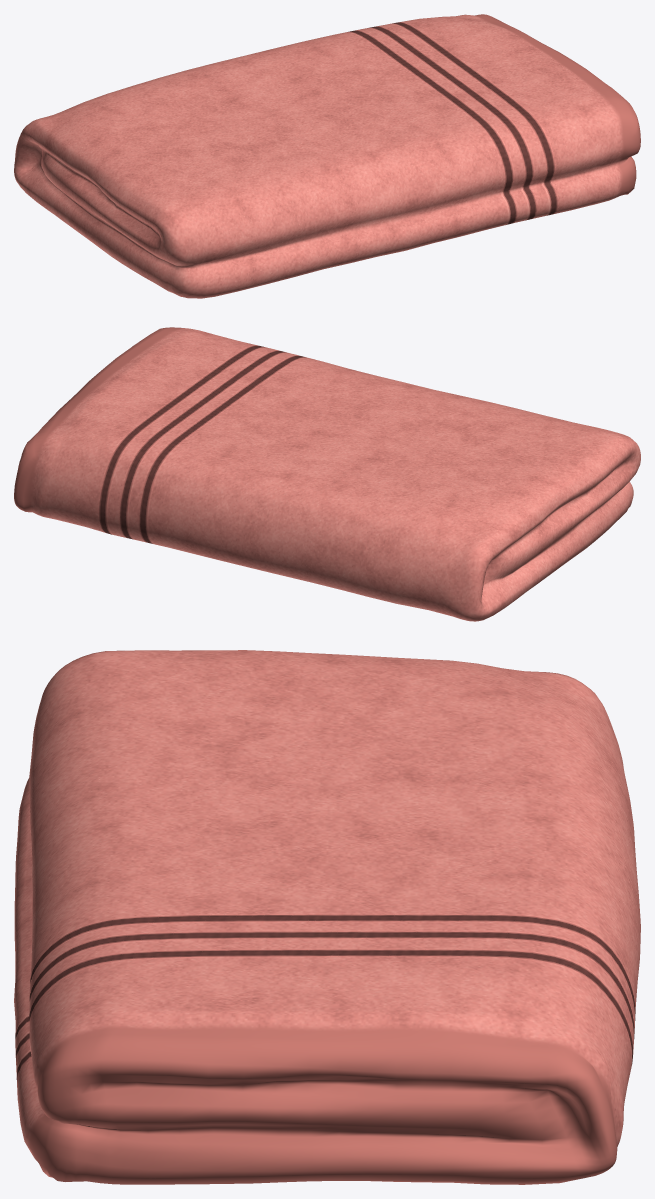
Rendered from towel_exit.glb.
3 views of the same model, one above another, from view 1: azimuth 30°, elevation 25°; view 2: azimuth 150°, elevation 25°; view 3: azimuth 270°, elevation 25° (orthographic). The views are drawn at different scales.
Parts seen in each view (by area): view 1: SM_Towel_1_0; view 2: SM_Towel_1_0; view 3: SM_Towel_1_0.
Part boxes in pixels (box(x1,y1,x2,y2)): SM_Towel_1_0: box(14, 14, 640, 298); SM_Towel_1_0: box(14, 327, 640, 621); SM_Towel_1_0: box(14, 650, 640, 1184).
Bounding box in the file's own units: 0.2005 × 0.0358 × 0.1282.
1 material, 1 textured.
